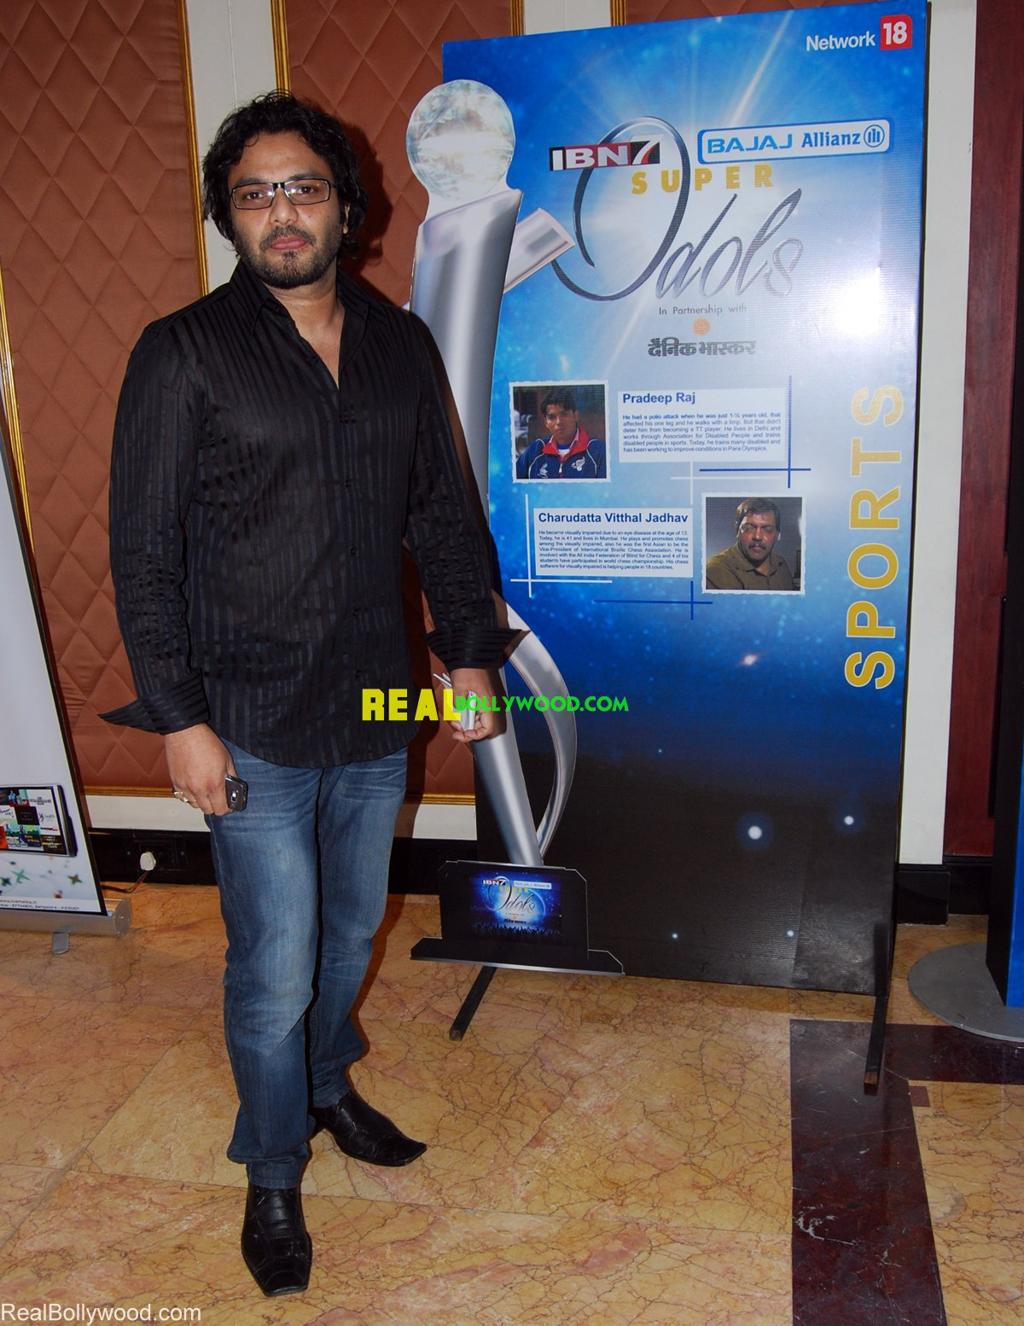face: (225, 141, 340, 281), (738, 510, 772, 560), (545, 405, 573, 437)
